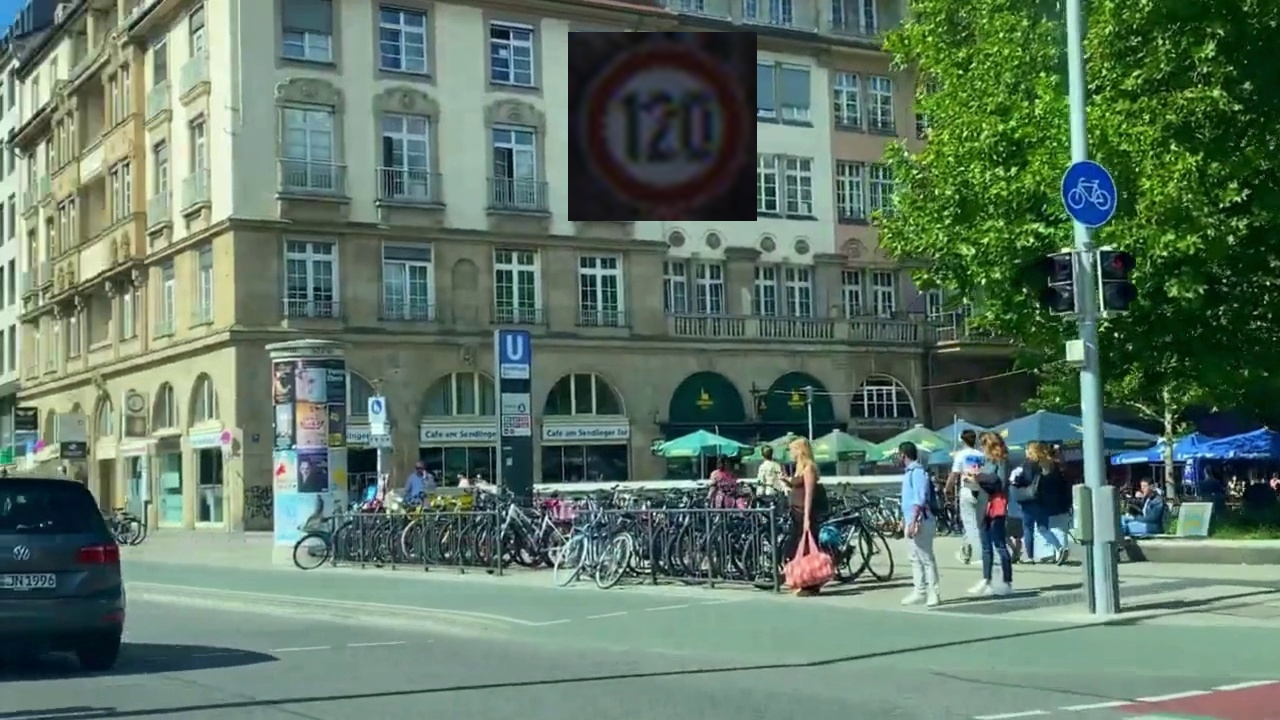Speed 120: (568, 32, 757, 221)
